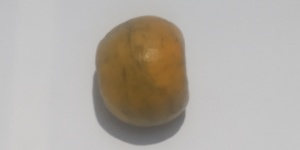BAD: (94, 14, 188, 128)
